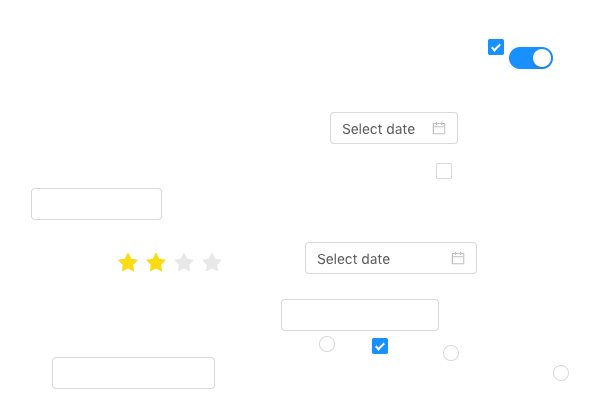Checkbox: (436, 160, 452, 181), (488, 36, 504, 57), (372, 335, 388, 356)
DatePicker: (305, 242, 477, 274), (330, 112, 458, 144)
Input: (52, 357, 215, 389), (281, 299, 439, 331), (31, 188, 162, 220)
Radio: (553, 362, 569, 382), (319, 333, 335, 353), (443, 342, 459, 362)
Rate: (118, 246, 238, 278)
Switch: (509, 46, 553, 70)
